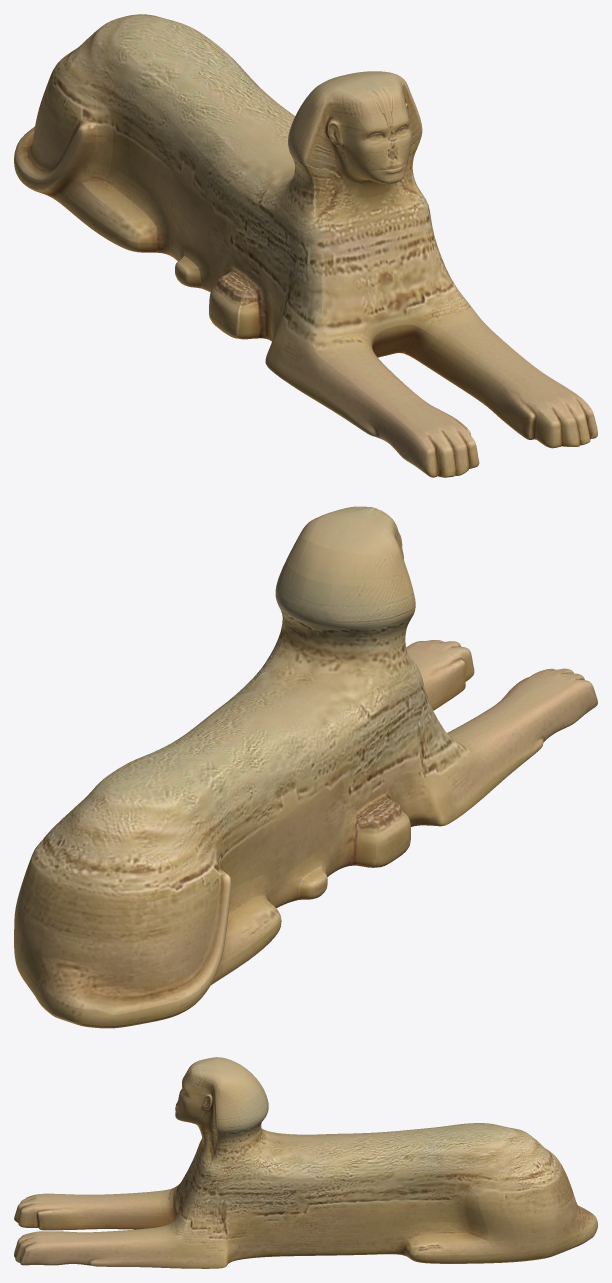
File: realAnubis_statue.fbx
3 views of the same model, one above another, from view 1: azimuth 30°, elevation 25°; view 2: azimuth 150°, elevation 25°; view 3: azimuth 270°, elevation 25° (orthographic). The views are drawn at different scales.
Parts seen in each view (by area): view 1: 10085_egypt_sphinx_iterations-2.001; view 2: 10085_egypt_sphinx_iterations-2.001; view 3: 10085_egypt_sphinx_iterations-2.001.
Part boxes in pixels (bbox=[...]): 10085_egypt_sphinx_iterations-2.001: bbox=[14, 14, 597, 477]; 10085_egypt_sphinx_iterations-2.001: bbox=[14, 506, 597, 1028]; 10085_egypt_sphinx_iterations-2.001: bbox=[14, 1057, 597, 1268].
Size of the model in its own units: 136 by 186 by 560.
